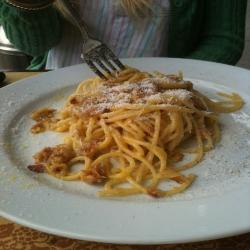bolonese_pasta: (29, 72, 223, 193)
